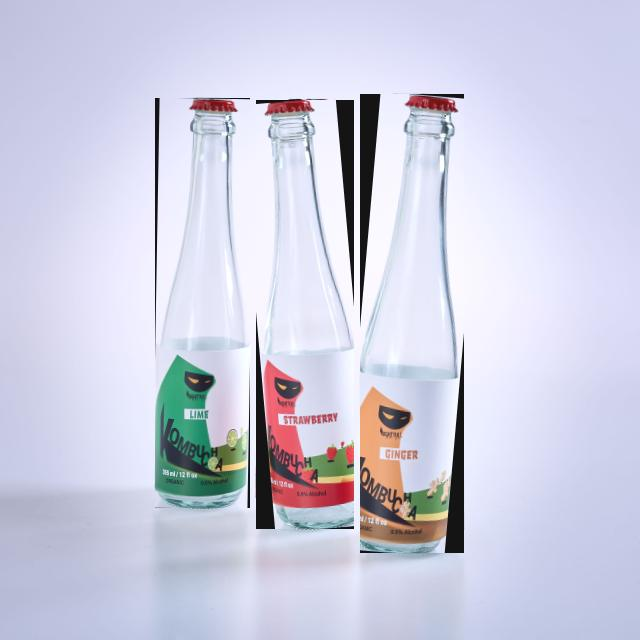Bottle: (360, 95, 463, 553), (256, 100, 354, 529), (155, 99, 250, 508)
